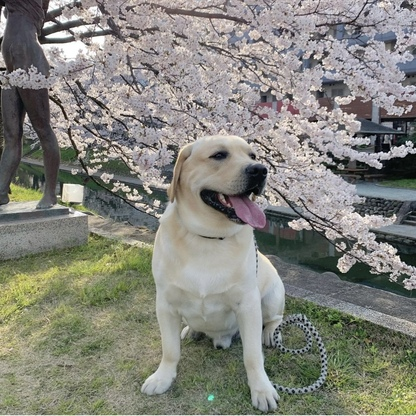labrado: (137, 133, 289, 416)
